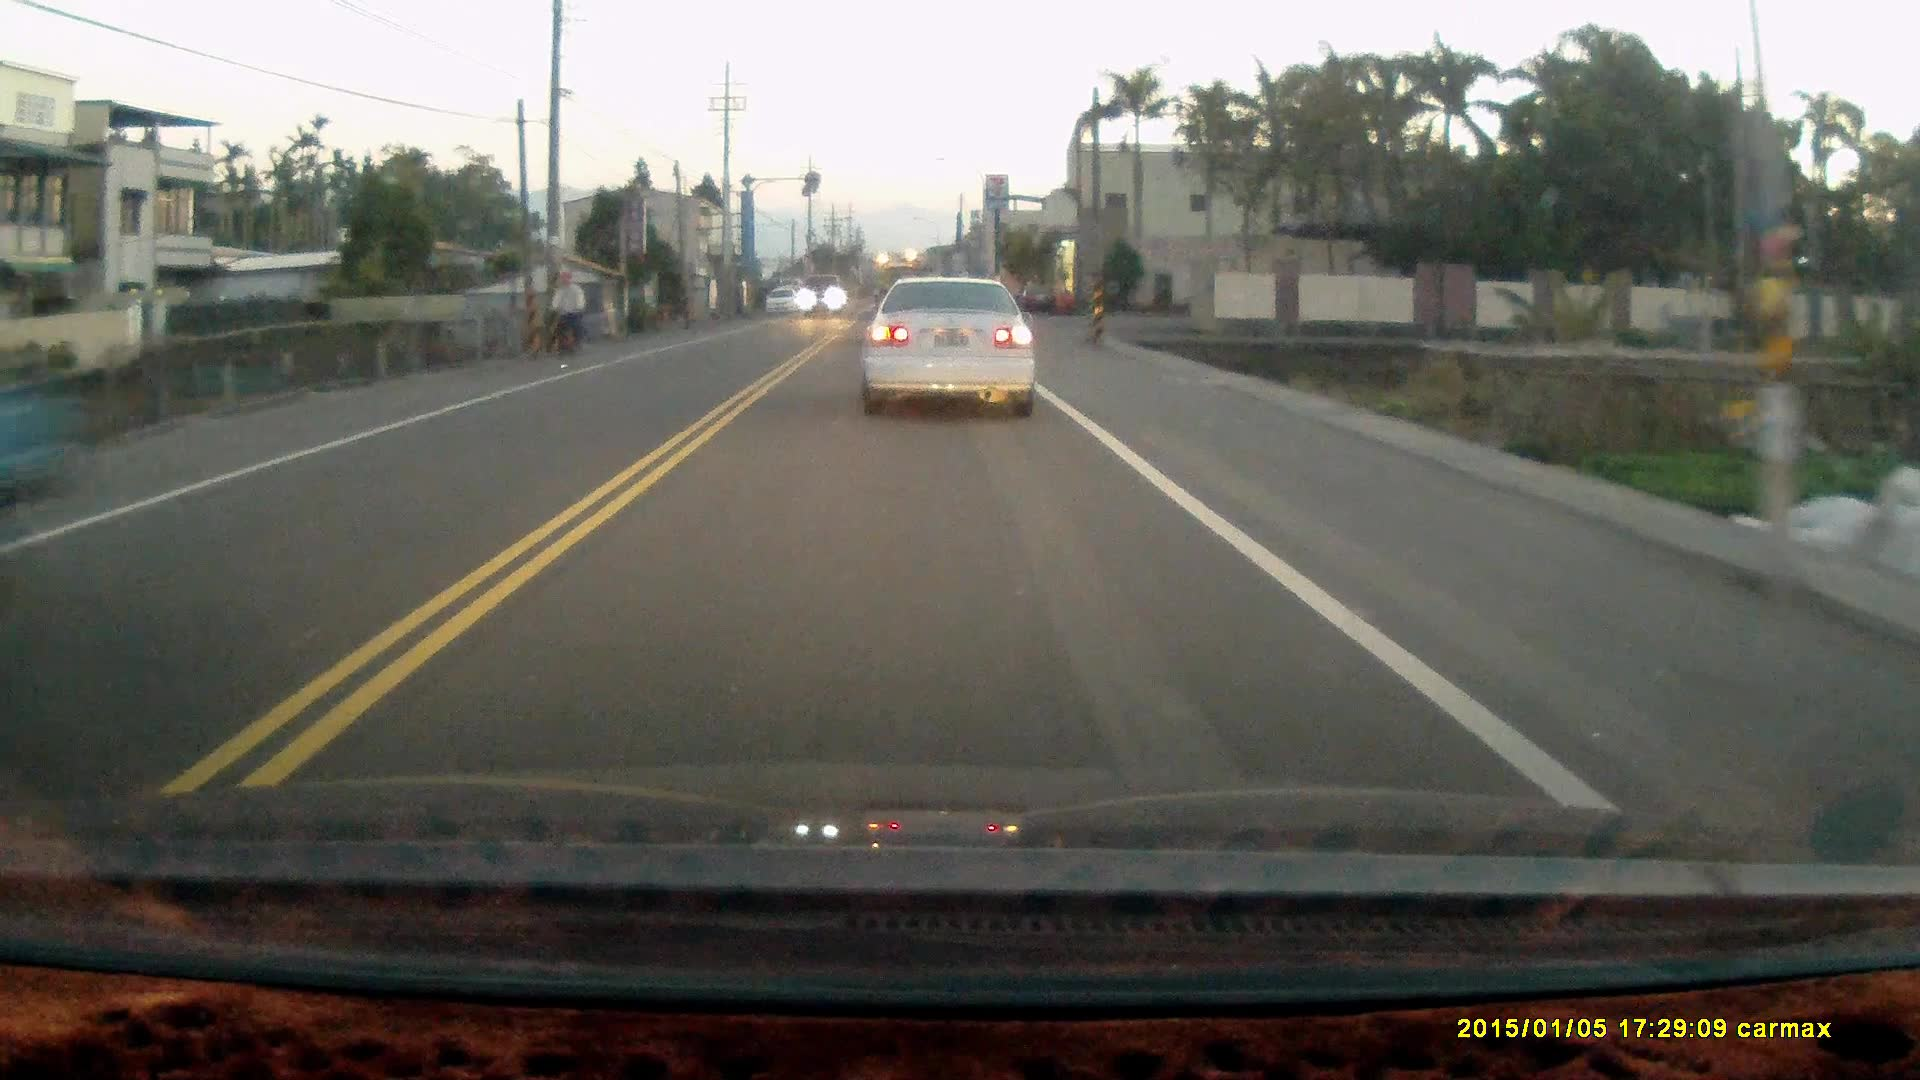rider: (544, 269, 585, 371)
vehicle: (857, 274, 1034, 419), (795, 273, 848, 320), (1018, 276, 1064, 315), (766, 288, 799, 317)
